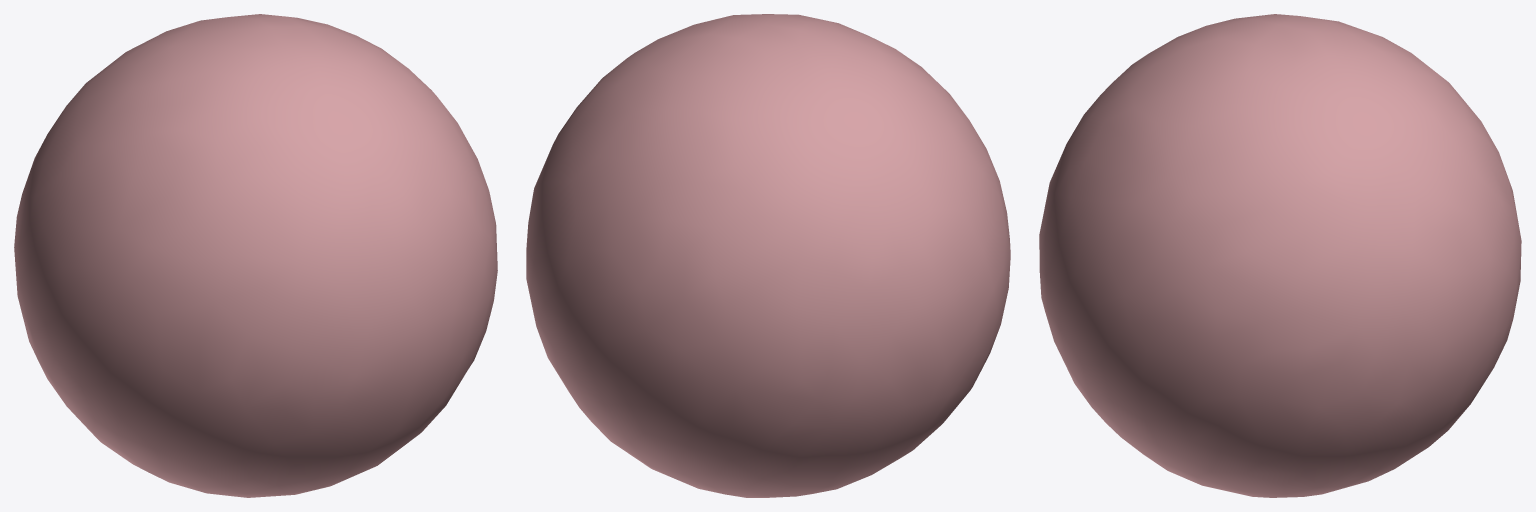
Rendered from fma56434_mm840.glb.
3 views of the same model, side by side, from view 1: azimuth 30°, elevation 25°; view 2: azimuth 150°, elevation 25°; view 3: azimuth 270°, elevation 25° (orthographic).
Visible parts, largest first — view 1: FMA56434_MM840; view 2: FMA56434_MM840; view 3: FMA56434_MM840.
Part boxes in pixels (x1,y1,x2,y2): FMA56434_MM840: (14, 14, 497, 497); FMA56434_MM840: (526, 14, 1010, 497); FMA56434_MM840: (1039, 14, 1521, 497).
Bounding box in the file's own units: 0.0109 × 0.0108 × 0.0109.
